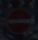No entry: (5, 5, 33, 35)
